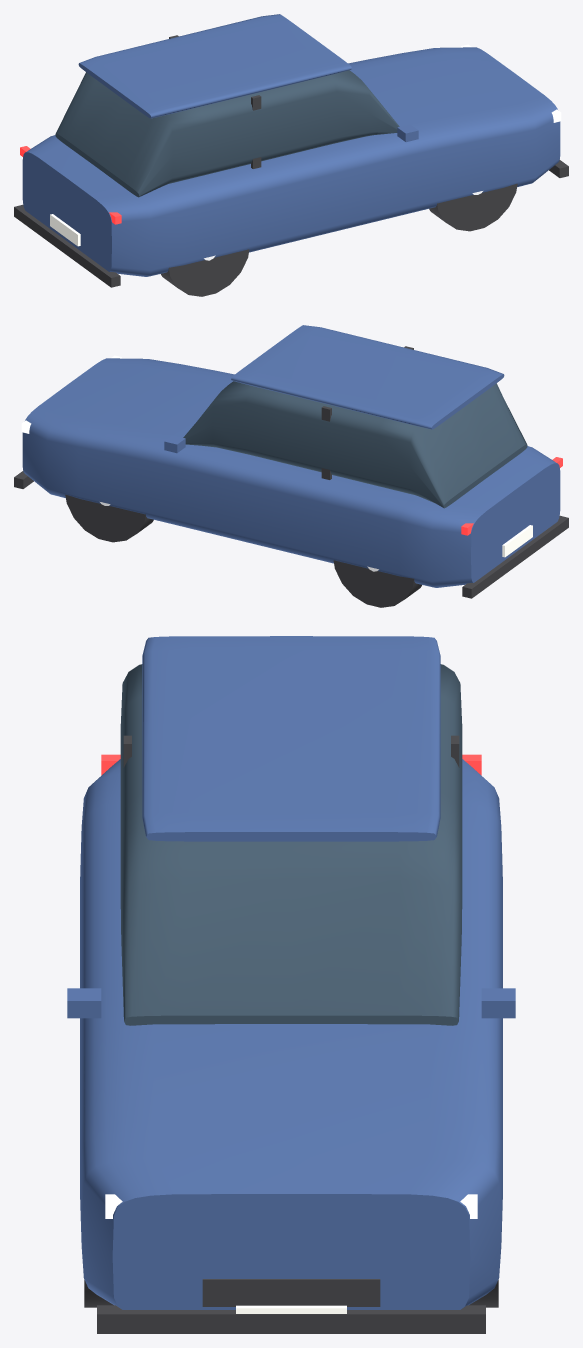
File: car-suv.glb
The picture shows the model from 3 angles, top to bottom: view 1: azimuth 30°, elevation 25°; view 2: azimuth 150°, elevation 25°; view 3: azimuth 270°, elevation 25°; orthographic projection. The views are drawn at different scales.
Visible parts, largest first — view 1: body; view 2: body; view 3: body.
Part boxes in pixels (x1,y1,x2,y2): body: (14,14,568,296); body: (14,325,568,607); body: (67,636,515,1333).
Bounding box in the file's own units: 4.95 × 1.87 × 2.1.
